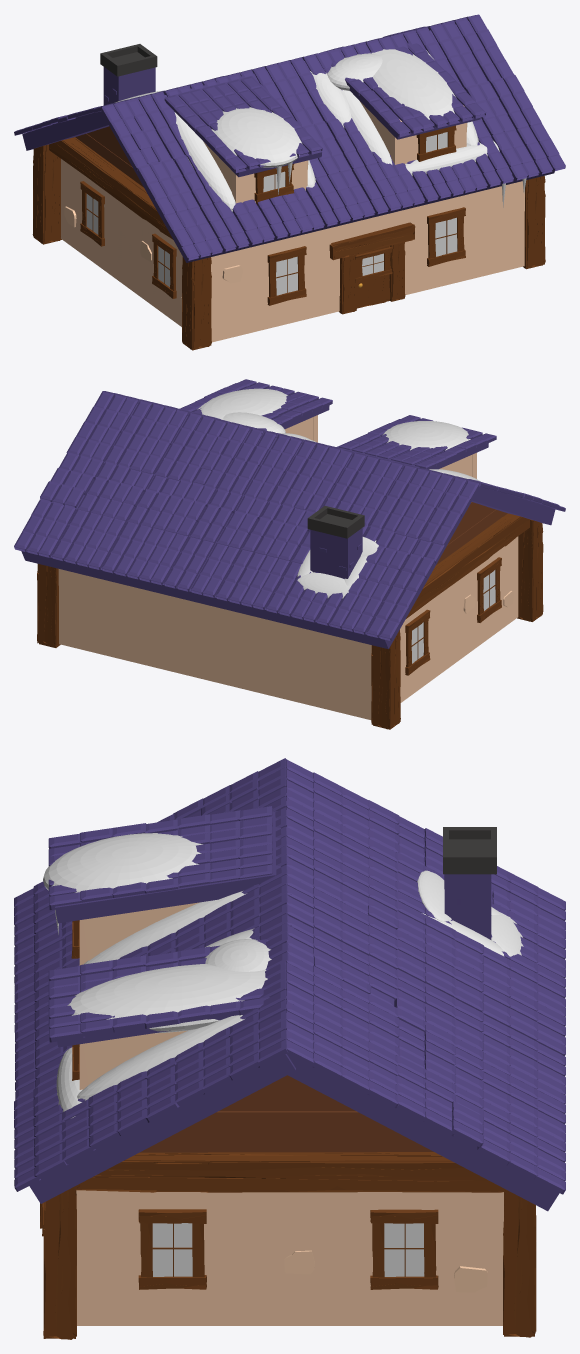
File: BHouse3.fbx
3 renders of one model, top to bottom at view 1: azimuth 30°, elevation 25°; view 2: azimuth 150°, elevation 25°; view 3: azimuth 270°, elevation 25°, orthographic. The views are drawn at different scales.
Parts seen in each view (by area): view 1: Cube.805, Cube.855, Sphere.118, Sphere.119, Cube.1549, Cube.858, Cube.1535, Sphere.123, Cube.1515, Cube.857, Cube.1540, Cube.984 (+20 smaller); view 2: Cube.854, Cube.855, Cube.857, Cube.1549, Cube.984, Sphere.119, Sphere.118, Cube.858, Cube.1538, Cube.1018, Cube.1014, Cube.1533 (+7 smaller); view 3: Cube.856, Cube.975, Sphere.119, Cube.858, Cube.857, Sphere.118, Cube.842, Cube.1512, Cube.841, Cube.1017, Cube.2324, Cube.978 (+19 smaller).
Boxes of the visible parts, <box> form: Cube.805: <box>211,181,524,342</box>; Cube.855: <box>61,159,182,326</box>; Sphere.118: <box>211,107,302,167</box>; Sphere.119: <box>372,49,455,119</box>; Cube.1549: <box>49,140,172,239</box>; Cube.858: <box>105,21,554,262</box>; Cube.1535: <box>193,257,211,348</box>; Sphere.123: <box>174,112,235,211</box>; Cube.1515: <box>527,176,545,267</box>; Cube.857: <box>22,111,108,150</box>; Cube.1540: <box>44,144,61,242</box>; Cube.984: <box>103,67,155,105</box>; Cube.854: <box>58,569,371,719</box>; Cube.855: <box>400,536,518,702</box>; Cube.857: <box>21,398,471,649</box>; Cube.1549: <box>406,517,529,618</box>; Cube.984: <box>310,528,362,578</box>; Sphere.119: <box>197,388,287,419</box>; Sphere.118: <box>383,421,470,450</box>; Cube.858: <box>472,487,555,525</box>; Cube.1538: <box>372,645,390,729</box>; Cube.1018: <box>38,564,55,645</box>; Cube.1014: <box>307,506,364,538</box>; Cube.1533: <box>518,529,532,621</box>; Cube.856: <box>76,1190,503,1325</box>; Cube.975: <box>77,1162,505,1191</box>; Sphere.119: <box>67,964,267,1033</box>; Cube.858: <box>29,1054,295,1203</box>; Cube.857: <box>287,1054,559,1211</box>; Sphere.118: <box>43,833,202,892</box>; Cube.842: <box>172,1111,402,1135</box>; Cube.1512: <box>44,1187,76,1339</box>; Cube.841: <box>140,1136,433,1152</box>; Cube.1017: <box>503,1192,535,1337</box>; Cube.2324: <box>55,811,280,923</box>; Cube.978: <box>124,1152,453,1162</box>.
Bounding box in the file's own units: 2059 × 993 × 1650.
